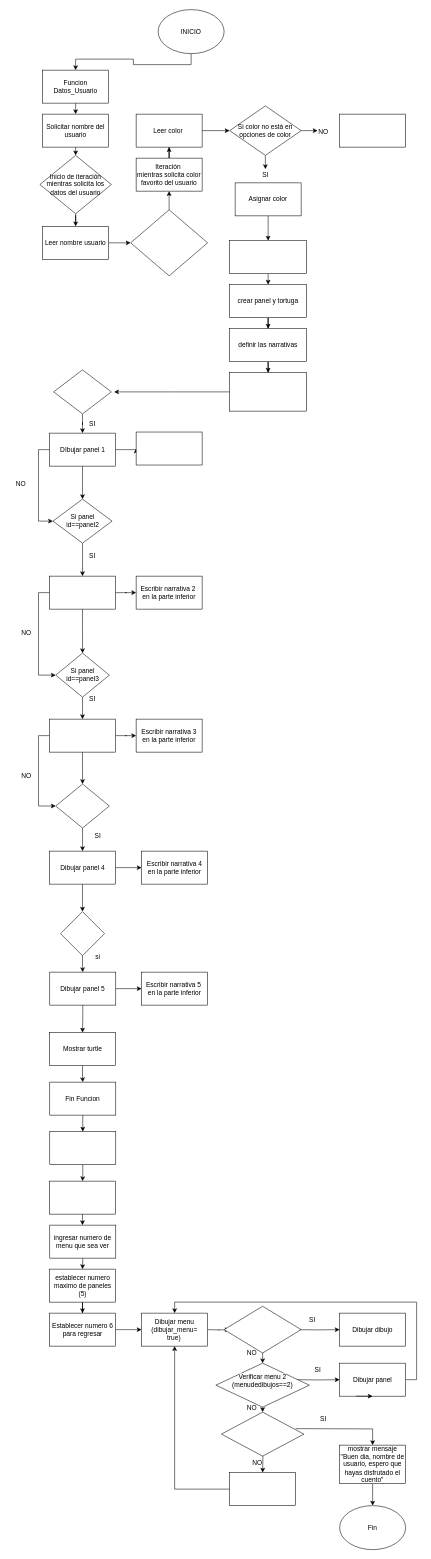
Some shapes in this 431 by 1559 pixel diagram are drawn without their labels. Each missing label, with the centre of its shape:
Definir colores: point (169, 242)
Dibujar panel 2: point (82, 592)
Dibujar panel 3: point (82, 735)
En la variedad de narrativas escoger una segun el panel creado (panel_id): point (268, 391)
Escribir narrativa 1 en la parte inferior: point (169, 448)
FUncion dibujar_panel, (panel_personal, nombre, edad, color): point (268, 257)
Funcion while: point (82, 1148)
Imprimir mensaje de error: point (372, 130)
mostrar mensaje de error: point (262, 1489)
Obtener datos del susario para el menu: point (82, 1197)
SI panel id==panel 4: point (82, 805)
Si panel id==panel 5: point (82, 933)
Si panel id==panel1: point (82, 391)
Verificar menu 1 (menudedibujos == 1): point (262, 1329)
Verificar menu 3 (menudedibujo==3): point (262, 1434)
